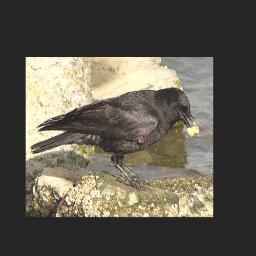Crow: (30, 86, 199, 191)
